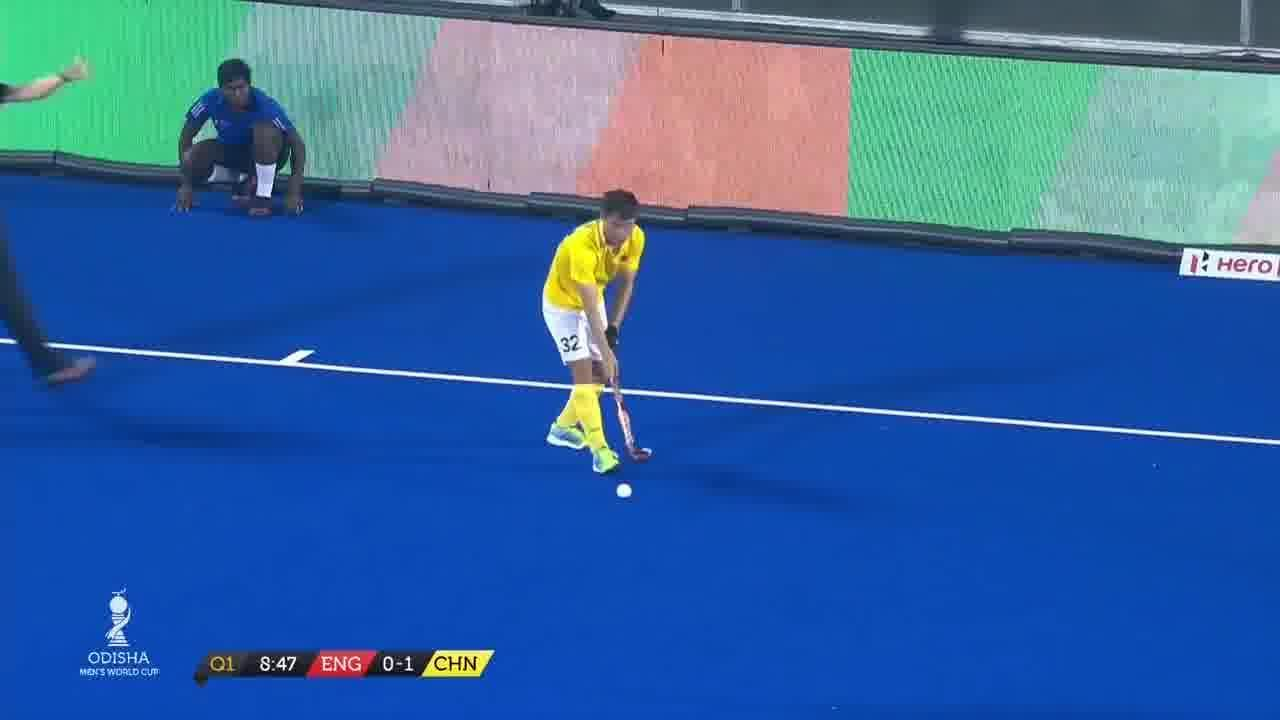ball: (614, 473, 636, 504)
